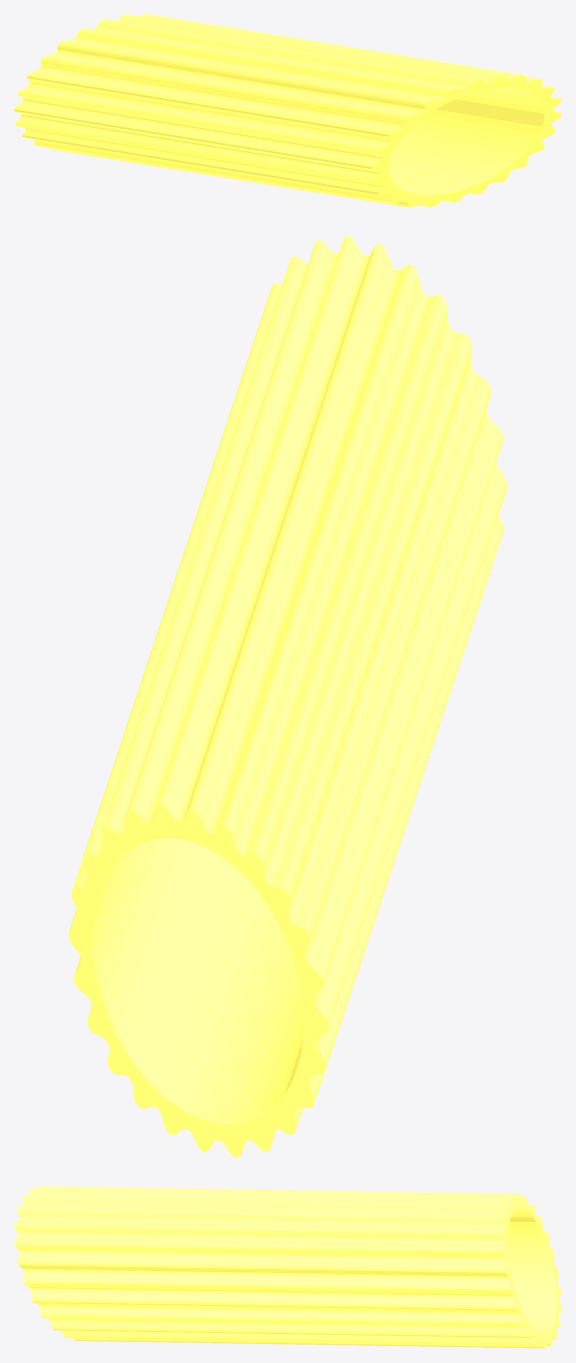
File: Penne.002.gltf
The picture shows the model from 3 angles, top to bottom: view 1: azimuth 30°, elevation 25°; view 2: azimuth 150°, elevation 25°; view 3: azimuth 270°, elevation 25°; orthographic projection. The views are drawn at different scales.
Parts seen in each view (by area): view 1: Penne.002; view 2: Penne.002; view 3: Penne.002.
Part boxes in pixels (x1,y1,x2,y2): Penne.002: (14,14,561,207); Penne.002: (68,236,507,1157); Penne.002: (14,1186,561,1348).
Size of the model in its own units: 1.92 by 1.4 by 3.05.
